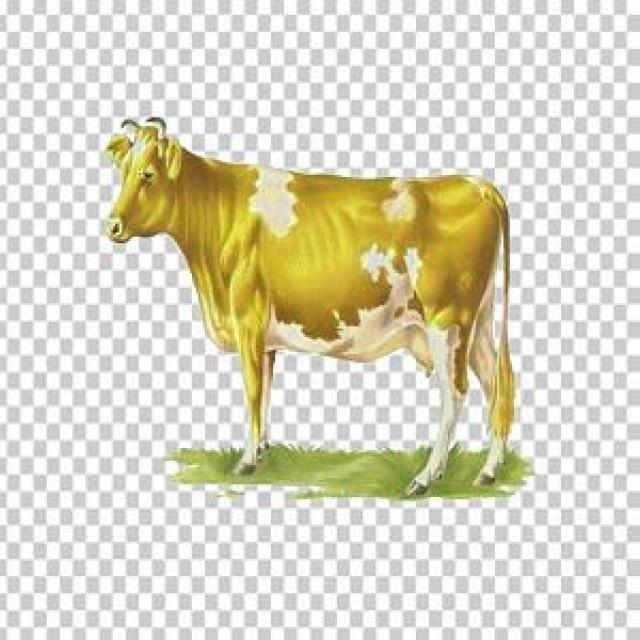cow: (106, 121, 514, 492)
